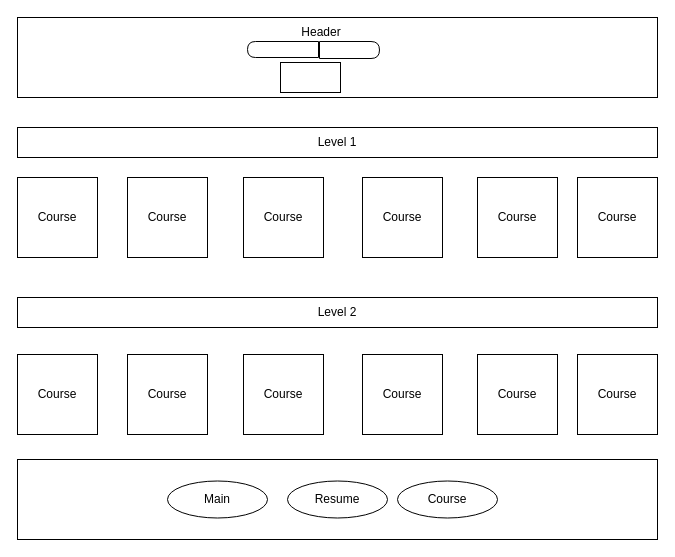
Image size: 675x557. Some labels were removed from this diagram. Each missing label, with the centre of its shape:
Order by: the point at 310,77
search bar: the point at 349,49
